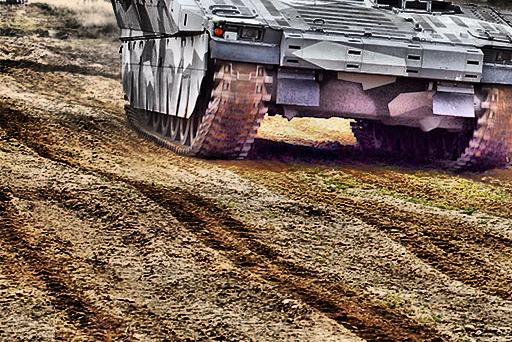tanks: (112, 1, 512, 171)
